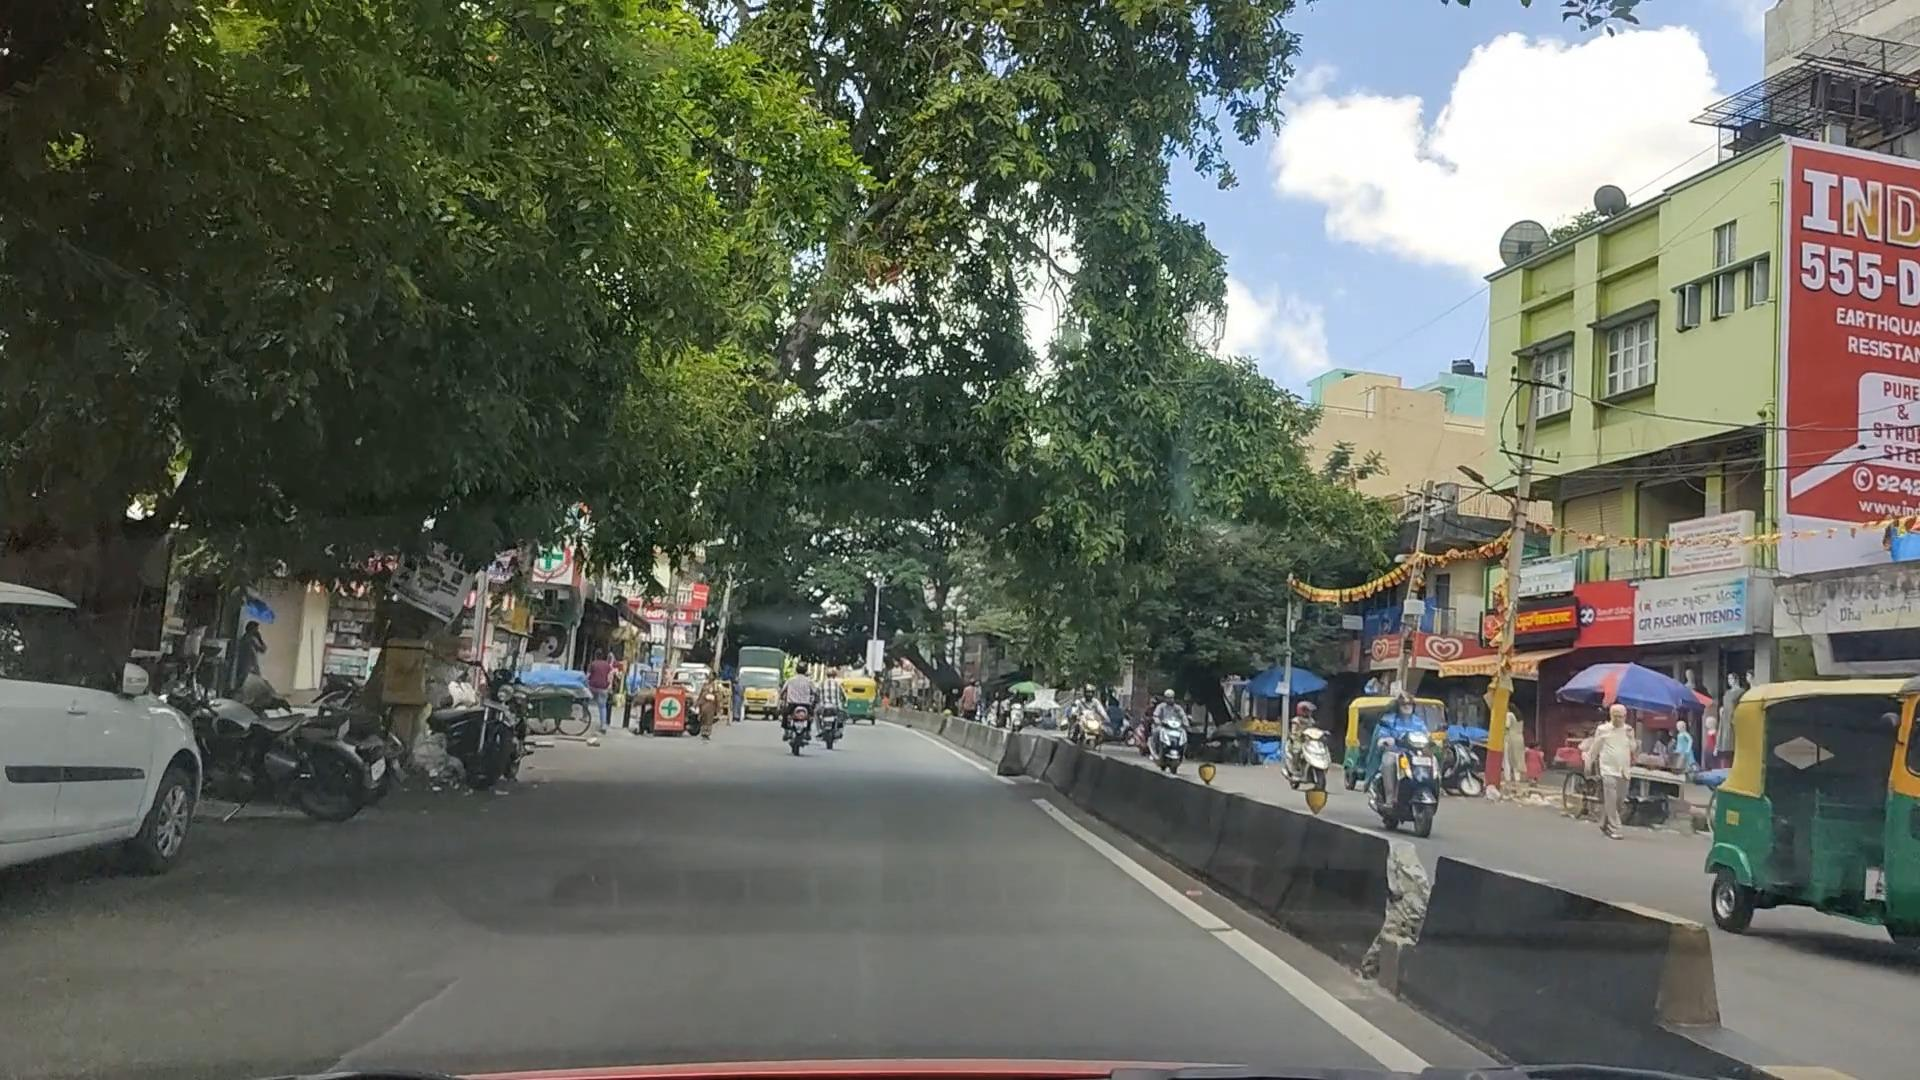LMV: (5, 574, 195, 889)
RoadDamages: (91, 881, 442, 1080)
